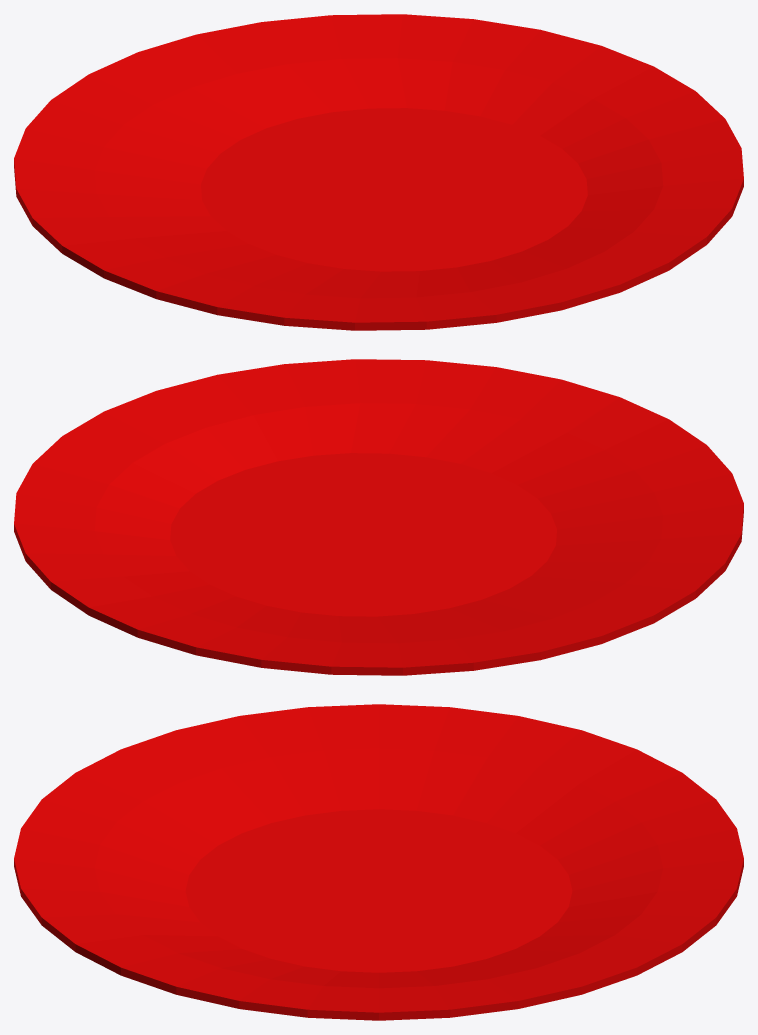
Rendered from Salam.glb.
3 renders of one model, top to bottom at view 1: azimuth 30°, elevation 25°; view 2: azimuth 150°, elevation 25°; view 3: azimuth 270°, elevation 25°, orthographic.
Visible parts, largest first — view 1: Salam; view 2: Salam; view 3: Salam.
Boxes of the visible parts, x1=… form: Salam: x1=14, y1=14, x2=743, y2=330; Salam: x1=14, y1=359, x2=743, y2=675; Salam: x1=14, y1=704, x2=743, y2=1020.
Size of the model in its own units: 0.031 by 0.00155 by 0.031.
